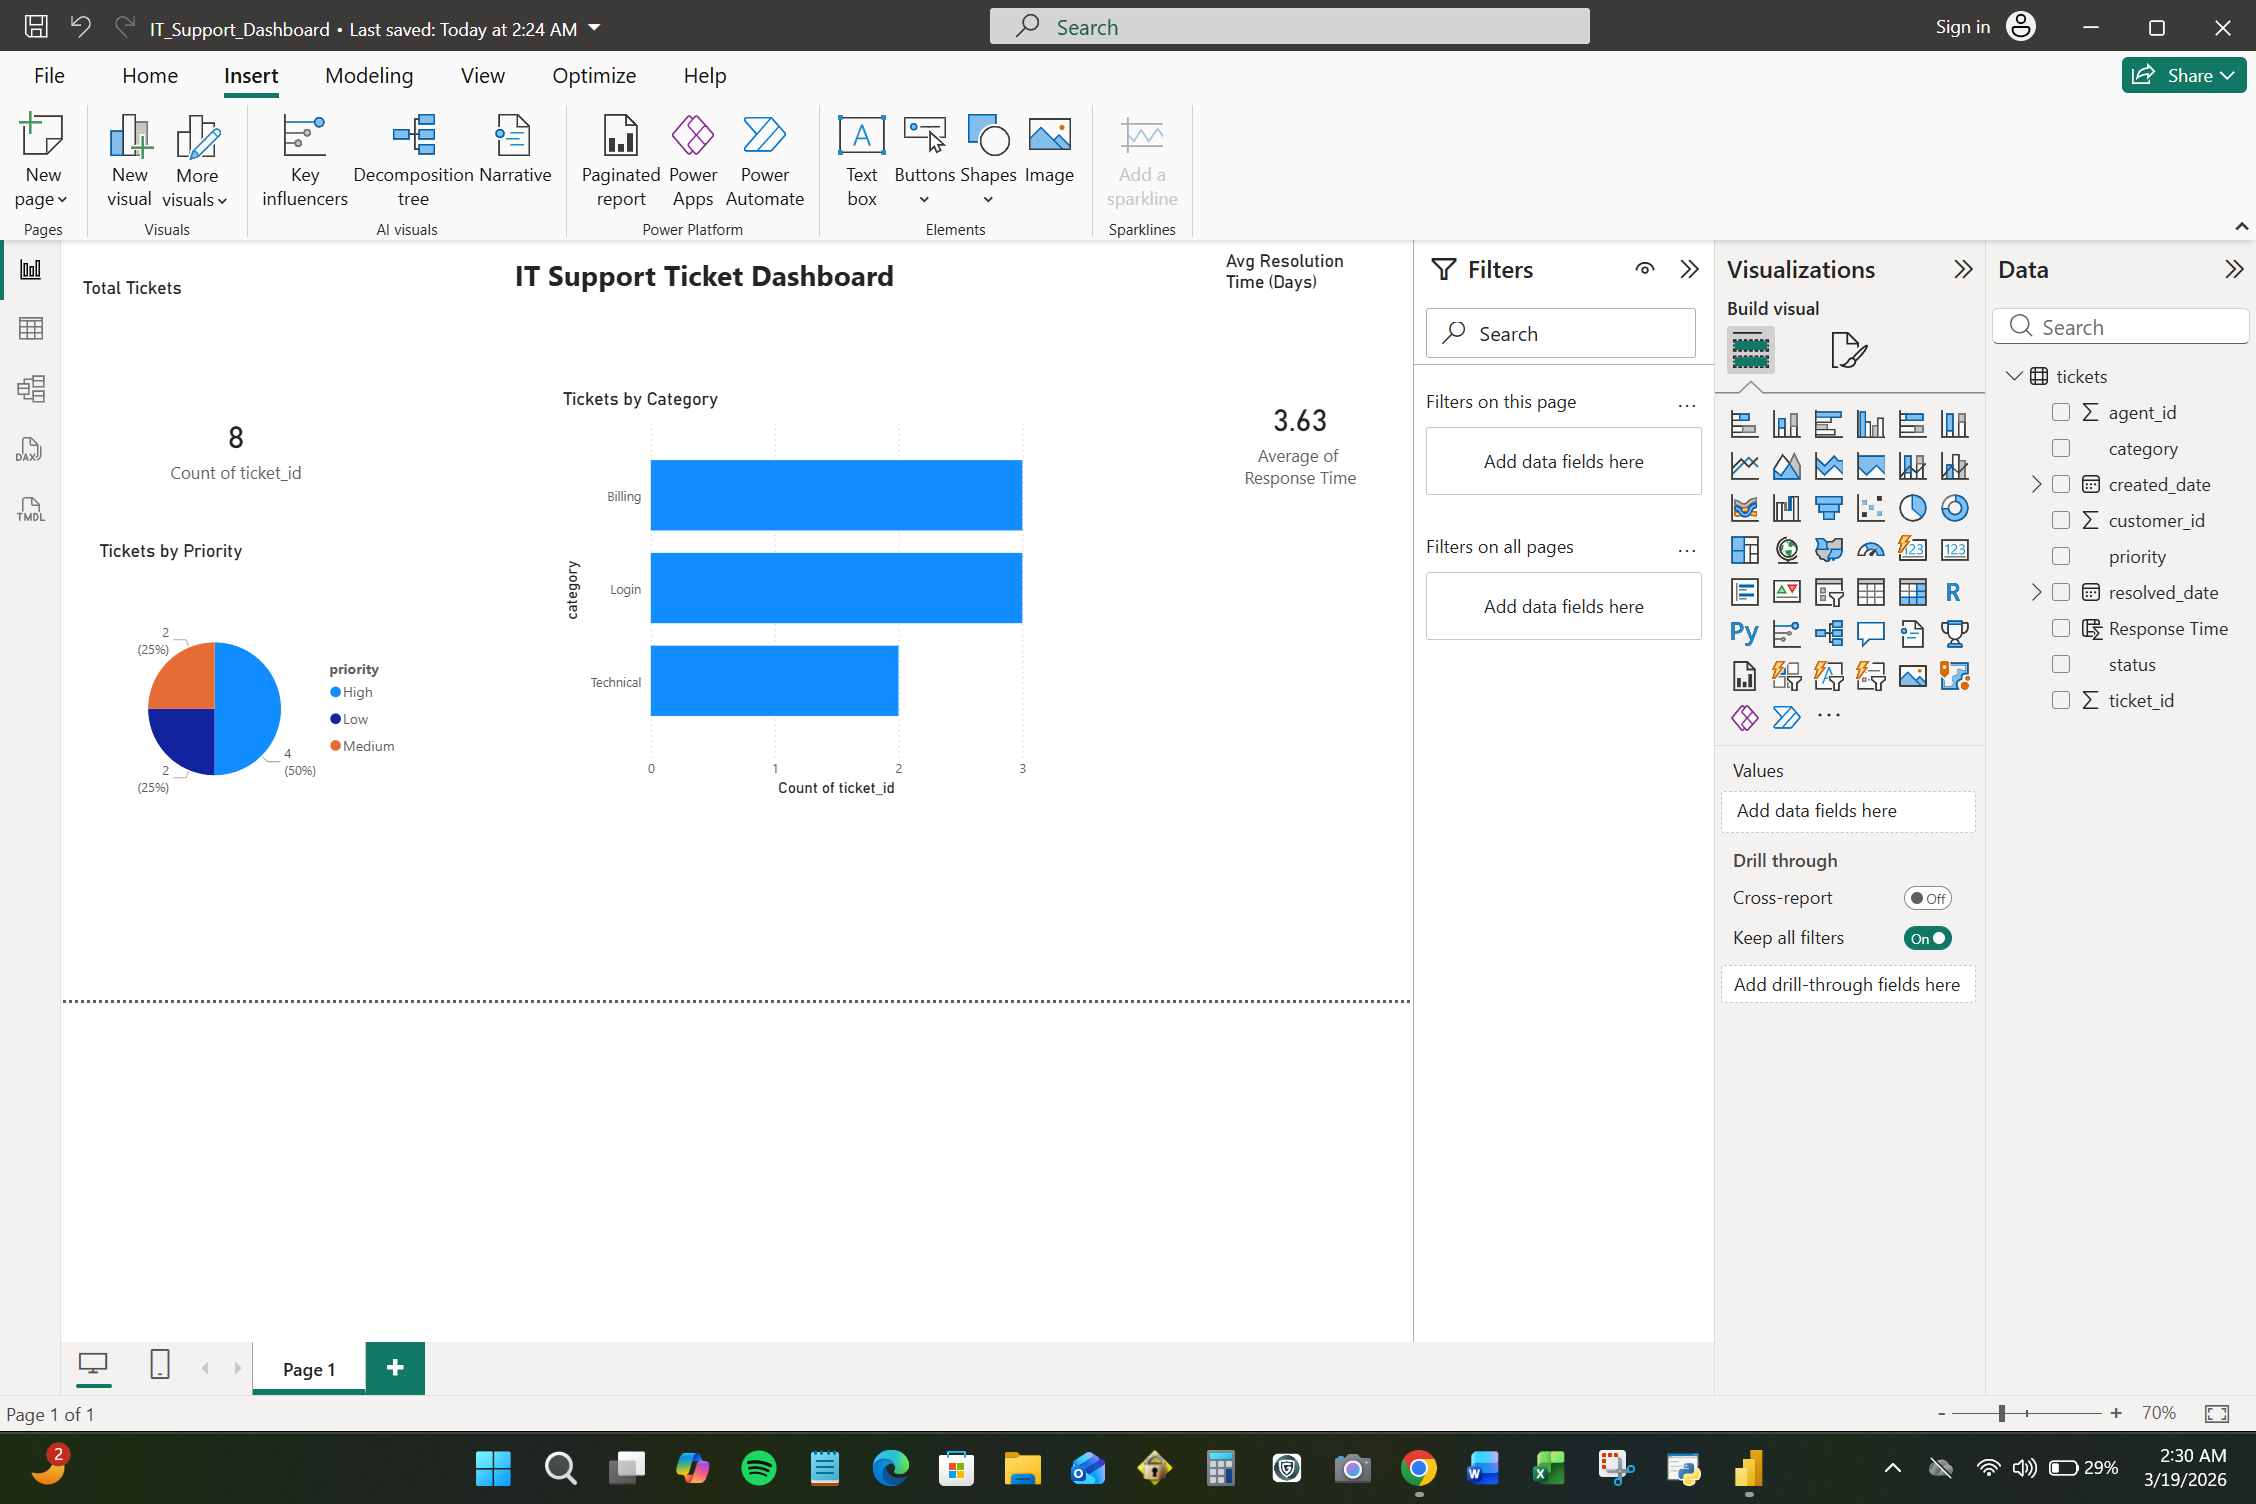

The dashboard page shown, as its layout file describes it:
{"tool":"powerbi","page":{"name":"Page 1","canvas":[1280,720],"ordinal":0},"visuals":[{"type":"clusteredBarChart","title":"Tickets by Category","fields":{"Category":["tickets.category"],"Y":["CountNonNull(tickets.ticket_id)"]},"box":[470.1,140.6,448.8,390.5],"z":0},{"type":"card","title":"Total Tickets","fields":{"Values":["CountNonNull(tickets.ticket_id)"]},"box":[15.6,35.5,299.6,299.6],"z":1},{"type":"pieChart","title":"Tickets by Priority","fields":{"Category":["tickets.priority"],"Y":["CountNonNull(tickets.ticket_id)"]},"box":[31.2,284,299.6,299.6],"z":2},{"type":"card","title":"Avg Resolution Time (Days)","fields":{"Values":["Avg(tickets.Response Time)"]},"box":[1097.8,9.9,150.5,299.6],"z":3},{"type":"textbox","box":[424.6,9.9,570.9,88],"z":4}]}

Visuals, with their boxes on the page's 1280x720 design canvas (x1, y1, x2, y2). These are canvas units, not pixel positions in the 2256x1504 screenshot, which may show the page scaled, cropped or inside an application window:
"Tickets by Category" clusteredBarChart: locate(470, 141, 919, 531)
"Total Tickets" card: locate(16, 36, 315, 335)
"Tickets by Priority" pieChart: locate(31, 284, 331, 584)
"Avg Resolution Time (Days)" card: locate(1098, 10, 1248, 310)
textbox: locate(425, 10, 996, 98)
